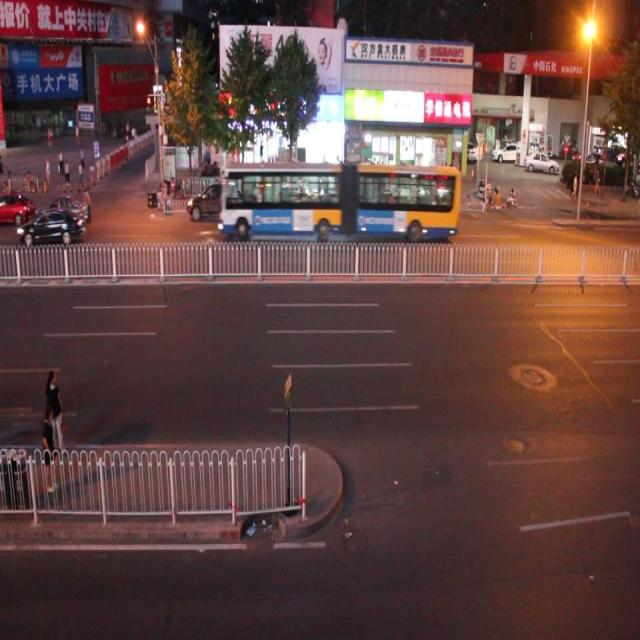car: (17, 205, 86, 248), (184, 176, 237, 219), (32, 188, 89, 226)
van: (219, 162, 458, 241)
